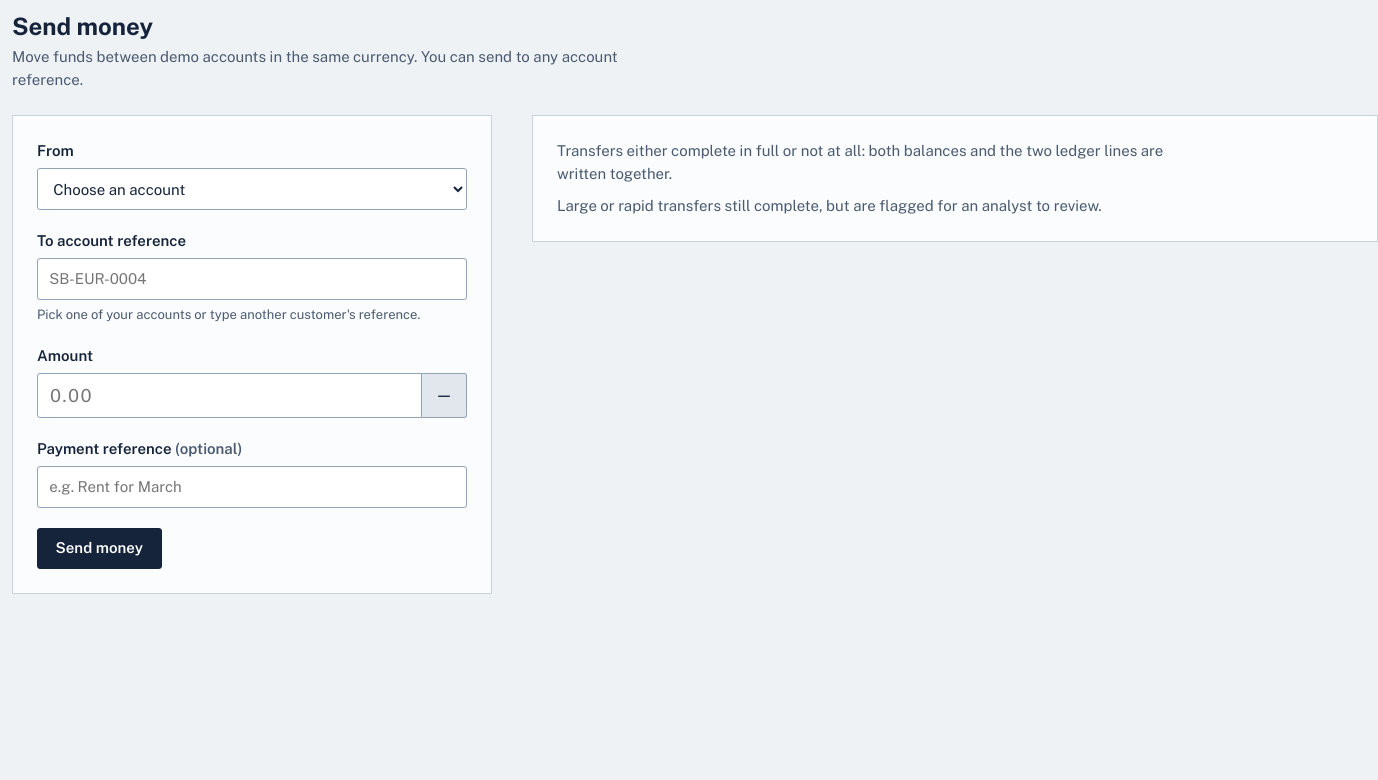
Test case: TransferComponent › blocks sending to the same account
The image size is (1378, 780).
Select "Alice Everyday (SB-EUR-0001)" in the dropdown with id "source" at (252, 189), box x1=37 y1=168 x2=467 y2=210
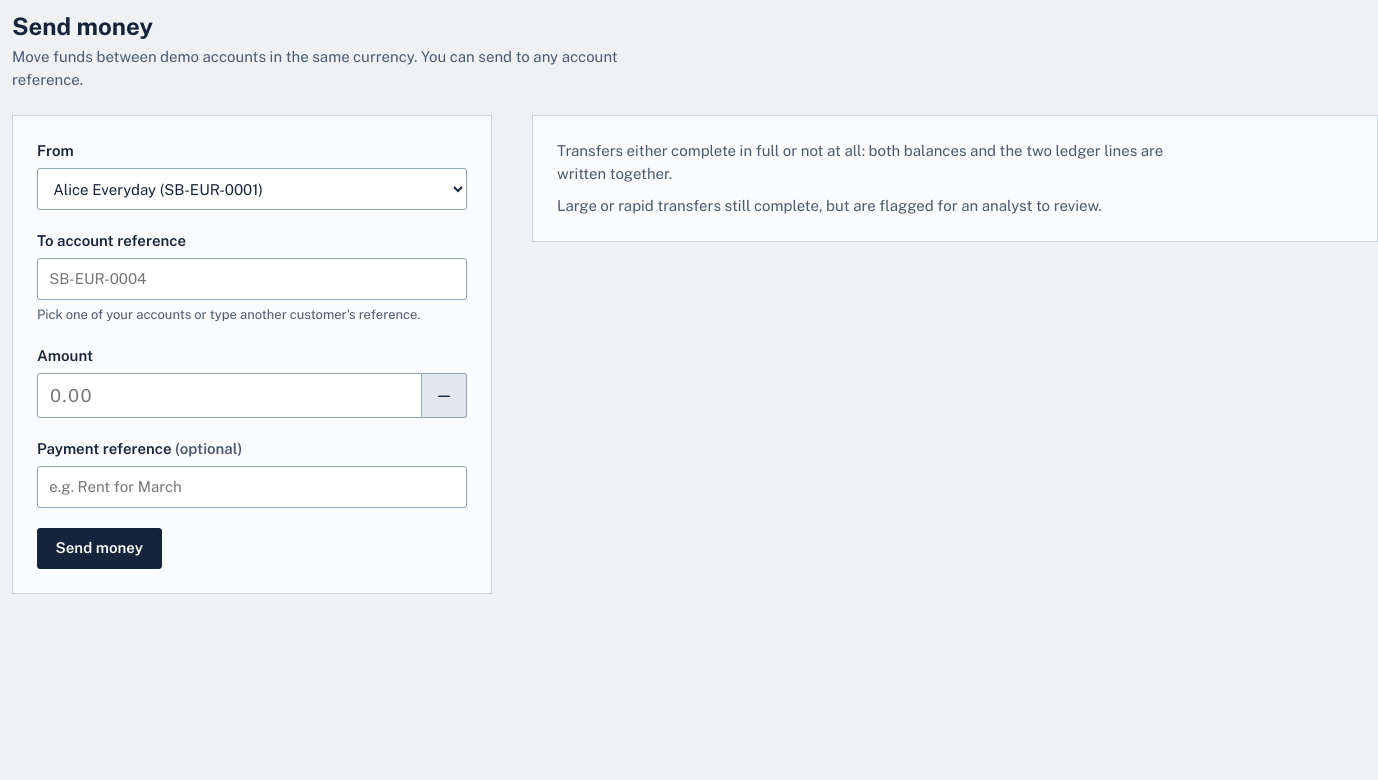
Type "SB-EUR-0001" into the field with id "destination" at (252, 279), box x1=37 y1=258 x2=467 y2=300
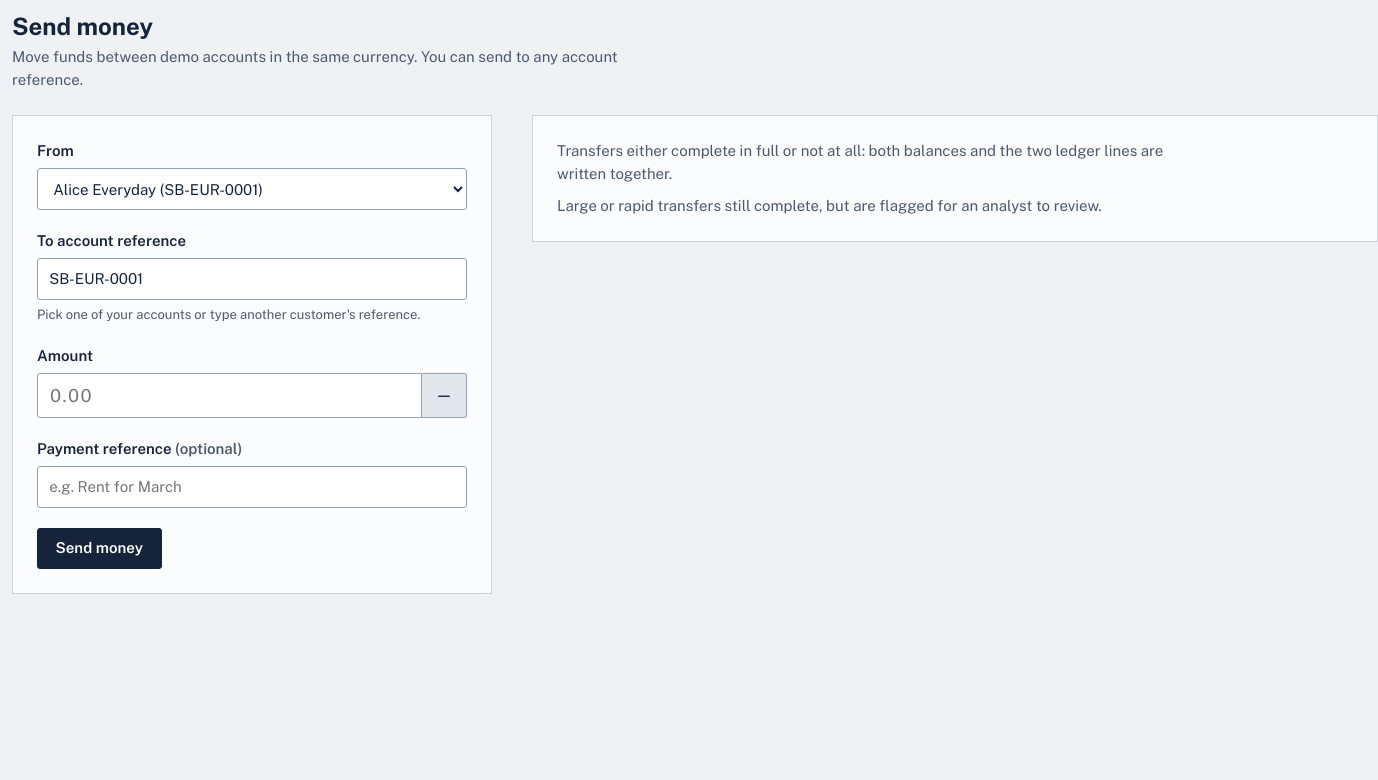
Type "5" into the field with id "amount" at (229, 396), box x1=37 y1=373 x2=422 y2=418
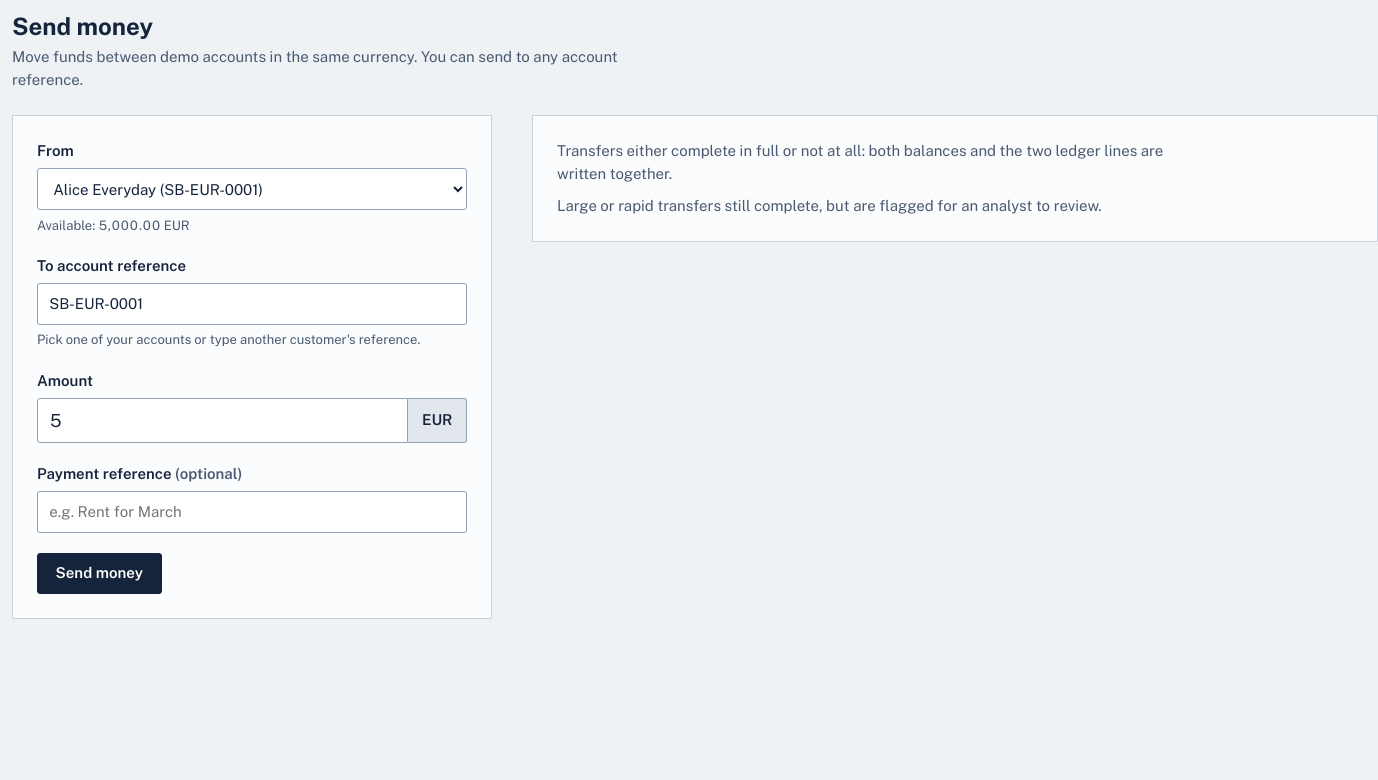
Click the submit button at (99, 574), box x1=37 y1=553 x2=162 y2=594
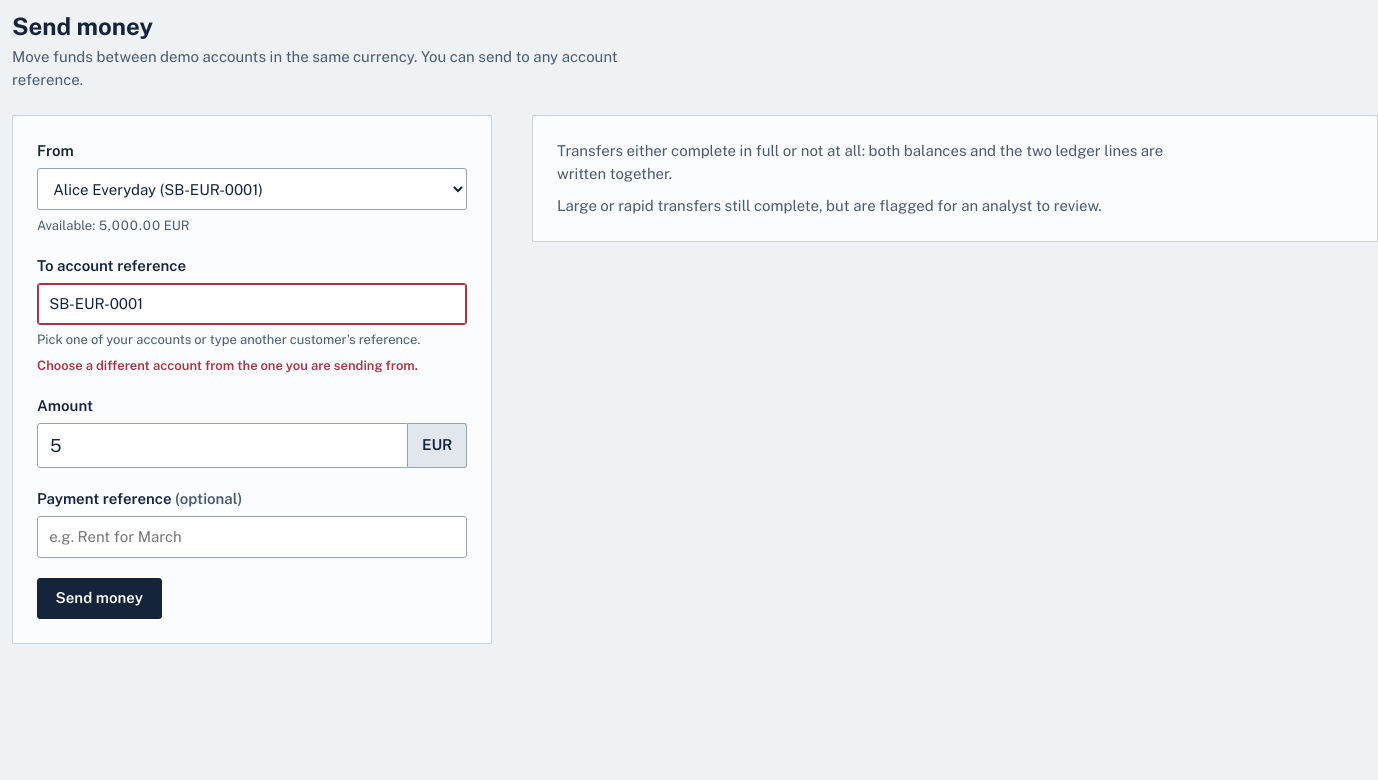
Now the text "Choose a different account" is shown, box x1=37 y1=358 x2=418 y2=372
